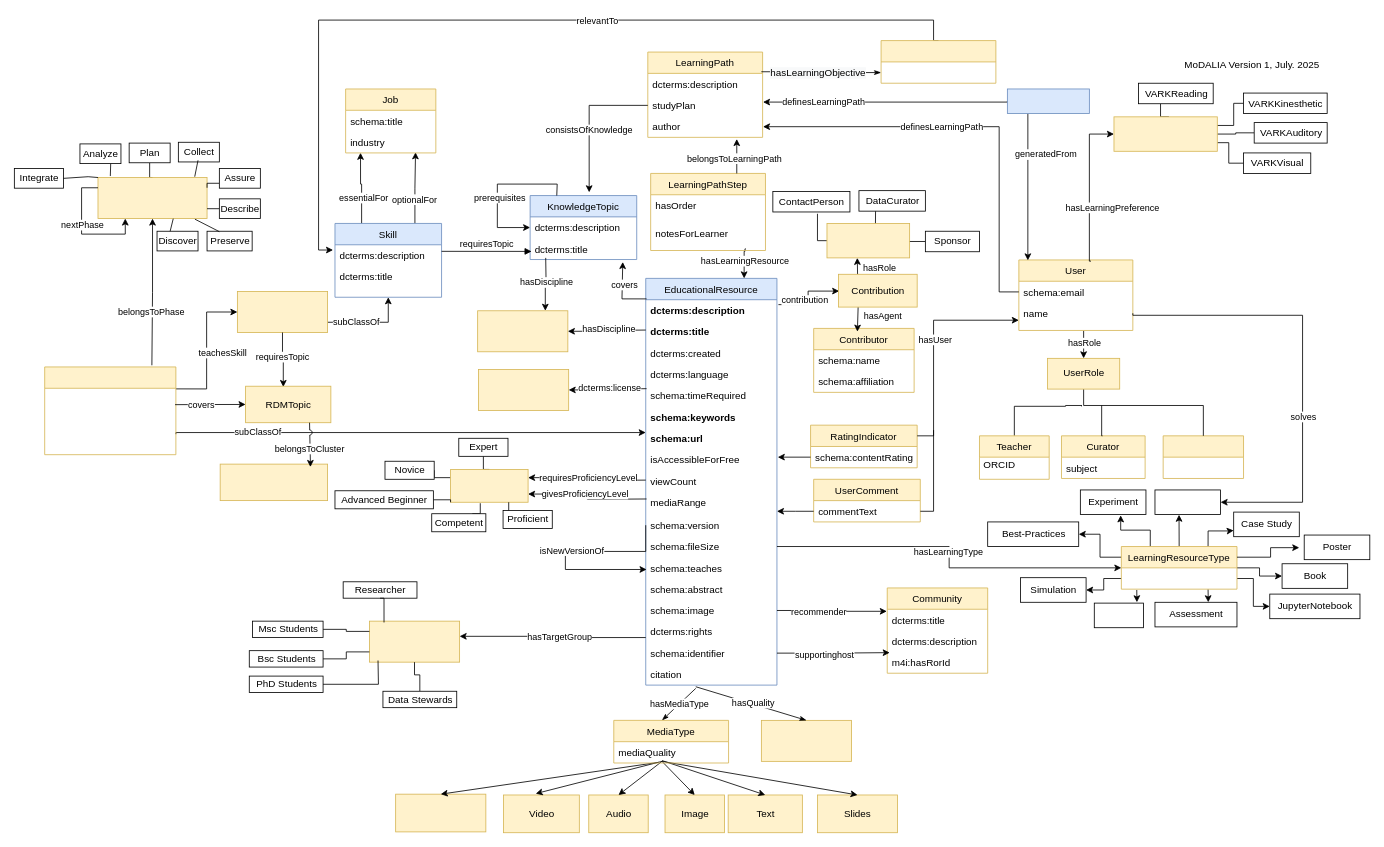
Image size: 1384x847. Some labels were removed from this diagram. The centre of each missing label's shape, as x and y in pixels:
Code/Script: the point at 440,812
ContentQuality: the point at 806,740
ContributorRole: the point at 868,240
DataLifeCyclePhase: the point at 152,198
Discipline: the point at 522,331
Learner: the point at 1203,456
LearningObjective: the point at 938,61
LearningPreference: the point at 1165,133
Lecture: the point at 1118,615
License: the point at 523,389
ProficiencyLevel: the point at 489,485
Questionnaire: the point at 1187,502
RDMResource: the point at 110,410
RDMSkill: the point at 282,312
RDMSubjectCluster: the point at 273,482
Recommendation: the point at 1048,101
TargetGroup: the point at 414,641
